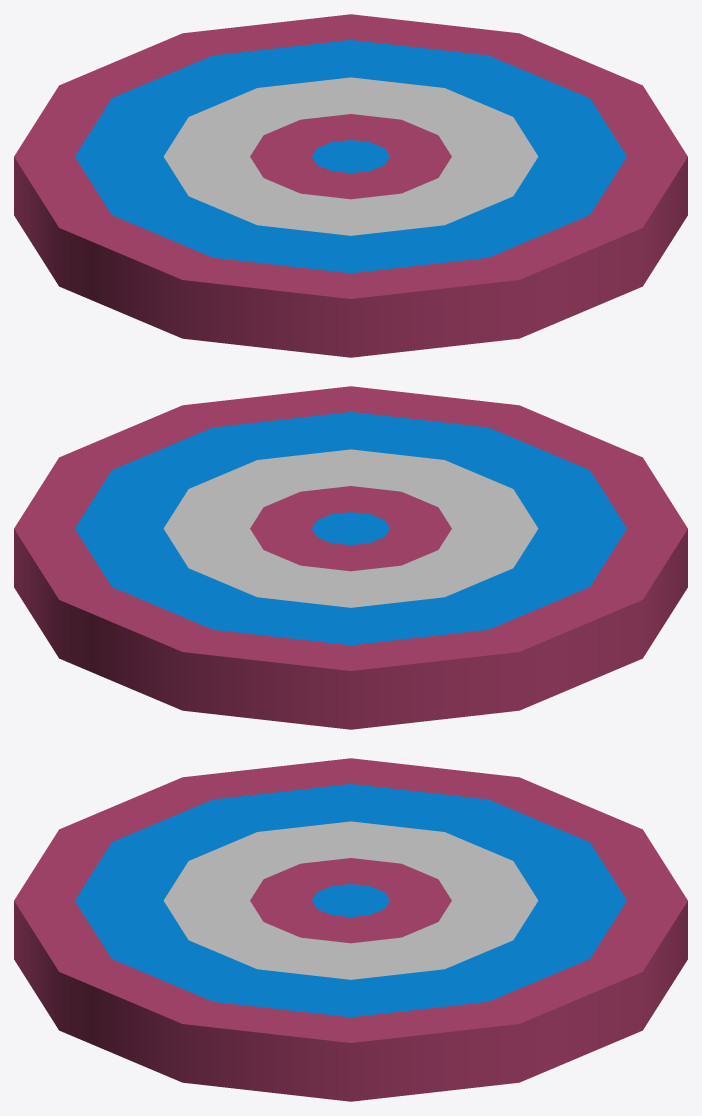
The model's file is dartboard_2.fbx.
3 views of the same model, one above another, from view 1: azimuth 30°, elevation 25°; view 2: azimuth 150°, elevation 25°; view 3: azimuth 270°, elevation 25° (orthographic).
Parts seen in each view (by area): view 1: Dartboard_2; view 2: Dartboard_2; view 3: Dartboard_2.
Part boxes in pixels (x1=…): Dartboard_2: x1=14, y1=14, x2=687, y2=357; Dartboard_2: x1=14, y1=386, x2=687, y2=729; Dartboard_2: x1=14, y1=758, x2=687, y2=1101.
Bounding box in the file's own units: 1.17 × 1.17 × 0.1124.
